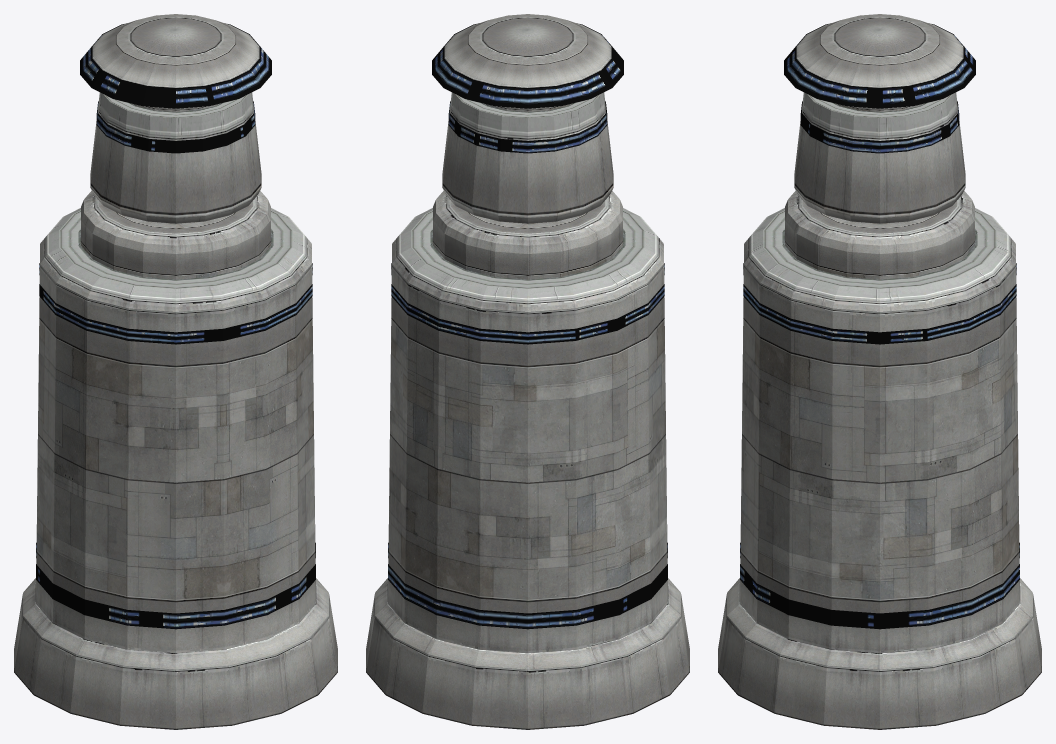
The model's file is eaw_bespinBuilding2.glb.
The picture shows the model from 3 angles, left to right: view 1: azimuth 30°, elevation 25°; view 2: azimuth 150°, elevation 25°; view 3: azimuth 270°, elevation 25°; orthographic projection.
Parts seen in each view (by area): view 1: polymsh7_0, polymsh7_1; view 2: polymsh7_0, polymsh7_1; view 3: polymsh7_0, polymsh7_1.
Part boxes in pixels (box(x1,y1,x2,y2)): polymsh7_0: box(14, 14, 337, 729); polymsh7_1: box(36, 23, 315, 629); polymsh7_0: box(366, 14, 689, 729); polymsh7_1: box(388, 23, 667, 629); polymsh7_0: box(718, 14, 1041, 729); polymsh7_1: box(740, 23, 1019, 629).
Bounding box in the file's own units: 19.88 × 42.06 × 19.58.
2 materials, 2 textured.
